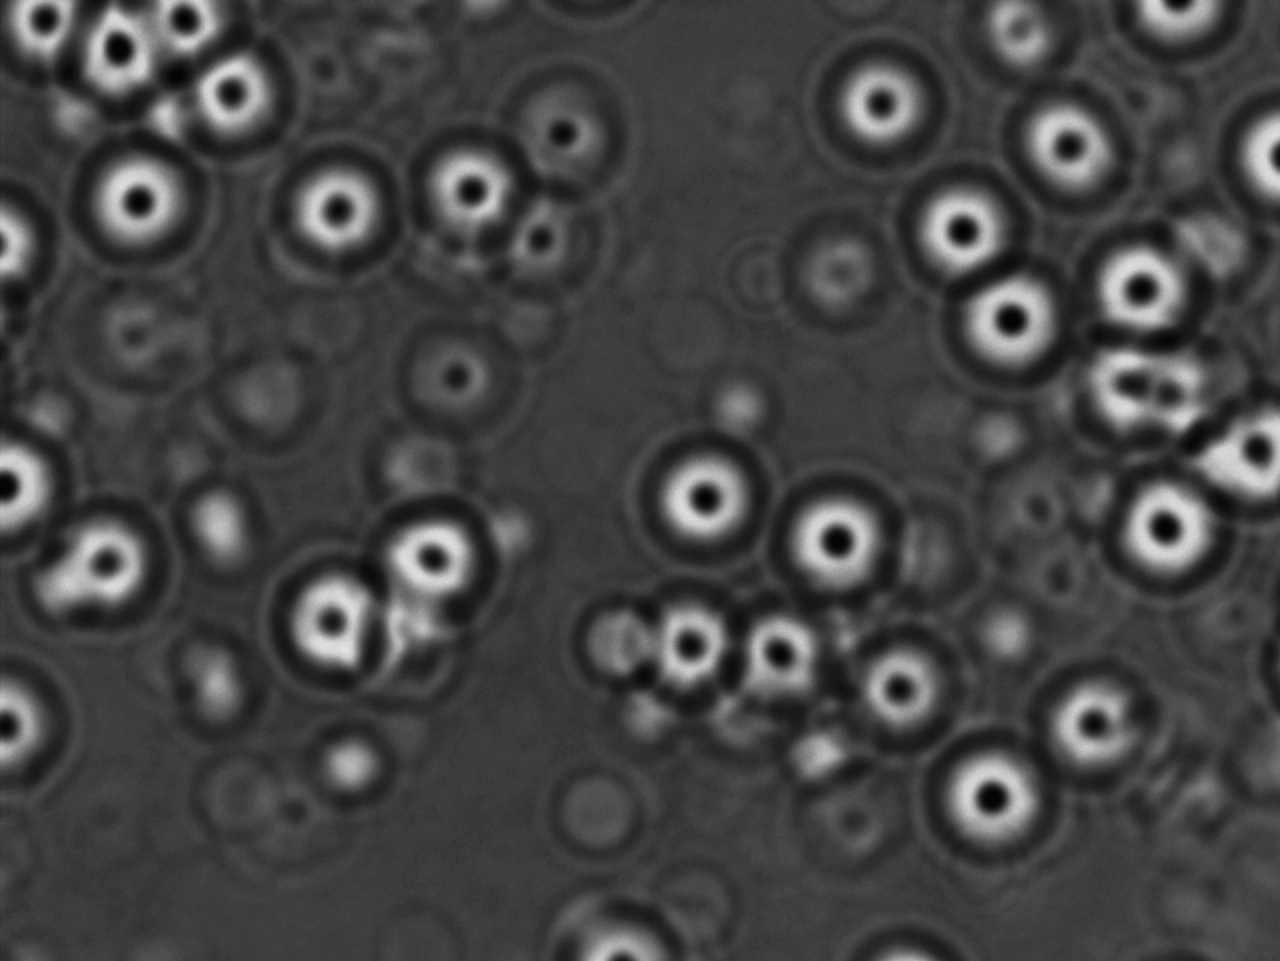depth:24: (1030, 646, 1167, 802), (253, 545, 400, 689), (923, 722, 1060, 859), (367, 487, 507, 622), (892, 147, 1026, 287), (1107, 453, 1238, 596), (623, 568, 755, 706), (1087, 217, 1219, 353), (639, 430, 773, 561), (1003, 82, 1140, 211), (270, 146, 408, 273), (76, 138, 213, 263), (813, 42, 947, 166), (943, 256, 1071, 381), (848, 622, 971, 749), (41, 504, 167, 626), (723, 588, 842, 712), (777, 480, 899, 595), (64, 1, 190, 109), (185, 36, 302, 147), (413, 127, 522, 241), (1200, 368, 1280, 509), (1225, 96, 1280, 215)
